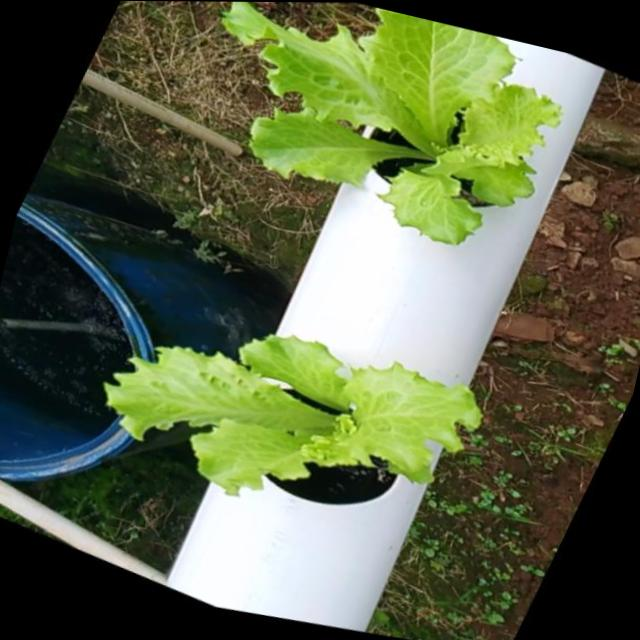Baby: (207, 6, 548, 260), (75, 350, 461, 522)
